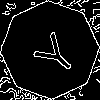Y: (25, 25, 82, 80)
